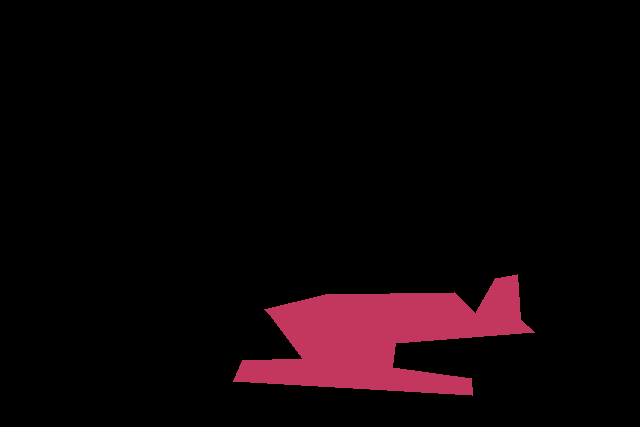Airplane: (233, 274, 534, 395)
